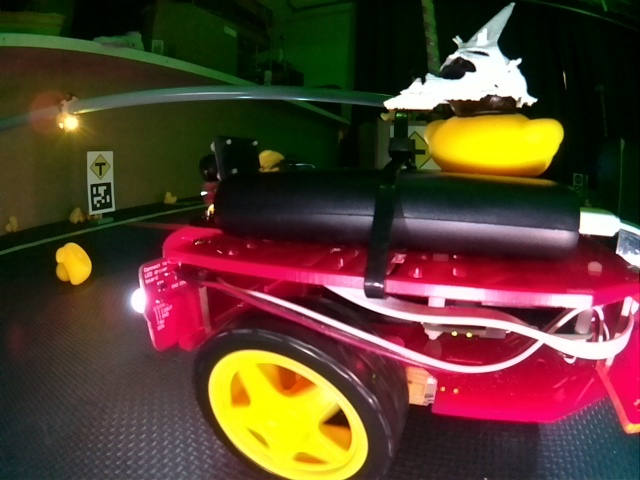Duckie: (385, 5, 563, 177), (56, 242, 92, 284), (258, 151, 281, 171), (69, 208, 84, 223), (7, 218, 17, 232), (164, 192, 176, 203)
Duckiebot: (139, 202, 635, 479)
Intersection sign: (90, 153, 111, 180)
QR code: (89, 182, 115, 212)
Traffic light: (58, 113, 80, 131)
